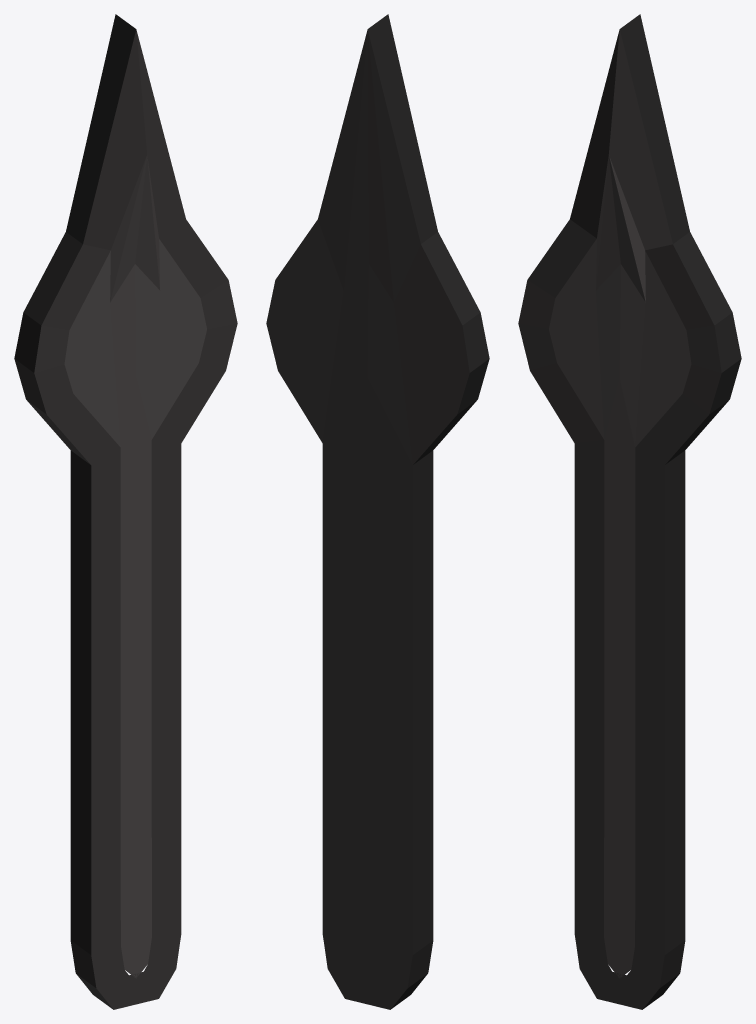
The model's file is Countdown_Pirate_Arrow.glb.
The picture shows the model from 3 angles, left to right: view 1: azimuth 30°, elevation 25°; view 2: azimuth 150°, elevation 25°; view 3: azimuth 330°, elevation 25°; orthographic projection.
Parts seen in each view (by area): view 1: Plane.006; view 2: Plane.006; view 3: Plane.006.
Part boxes in pixels (x1=…): Plane.006: x1=14, y1=14, x2=237, y2=1009; Plane.006: x1=266, y1=14, x2=489, y2=1009; Plane.006: x1=518, y1=14, x2=741, y2=1009.
Size of the model in its own units: 0.0298 by 0.1366 by 0.00801.
Materials: 1 (1 with a texture image).
